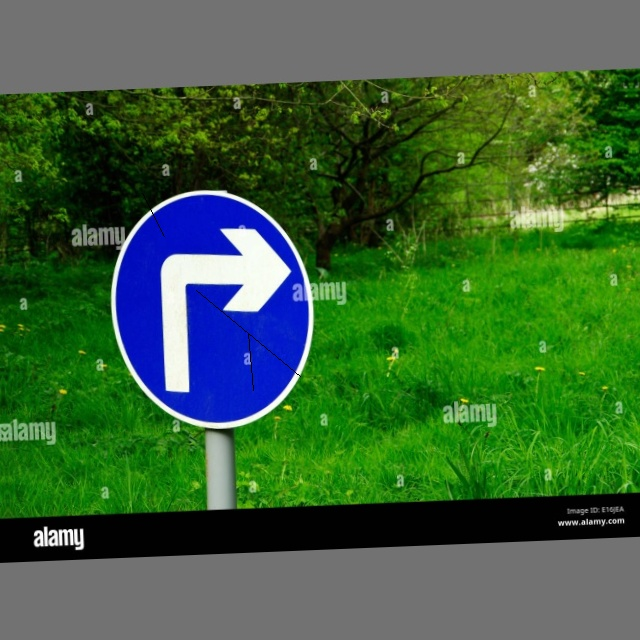Compulsory_Turn_Right_Ahead: (105, 182, 321, 435)
